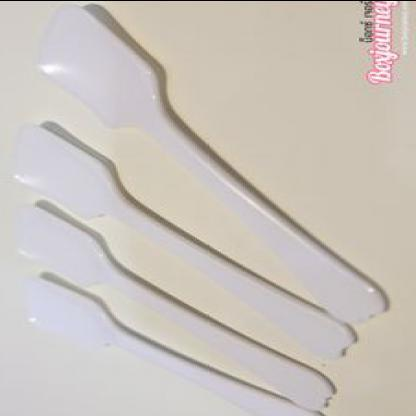Others: (11, 4, 390, 416)
